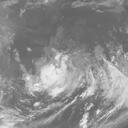cyclone: (38, 57, 83, 99)
